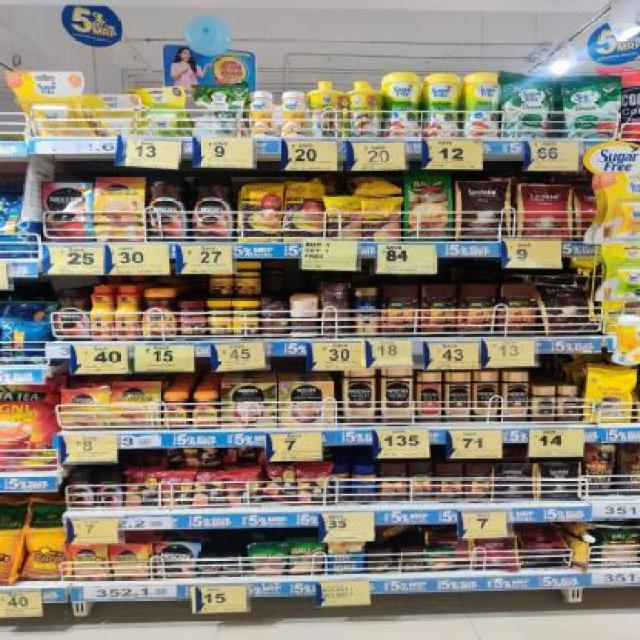Coffee: (95, 178, 143, 238), (145, 175, 189, 240), (43, 181, 92, 237), (192, 175, 234, 240), (342, 368, 378, 423), (60, 387, 108, 428), (380, 368, 415, 422), (113, 382, 158, 424), (54, 289, 88, 340), (143, 288, 177, 338), (444, 372, 474, 421), (472, 371, 500, 420), (155, 541, 194, 576), (504, 372, 530, 421), (116, 286, 139, 339), (71, 546, 106, 579), (92, 287, 114, 339), (192, 392, 219, 428), (162, 393, 189, 427), (98, 474, 125, 508), (113, 547, 144, 576), (66, 476, 94, 506), (559, 387, 581, 421), (535, 388, 556, 420), (198, 556, 220, 576), (224, 556, 244, 576)
